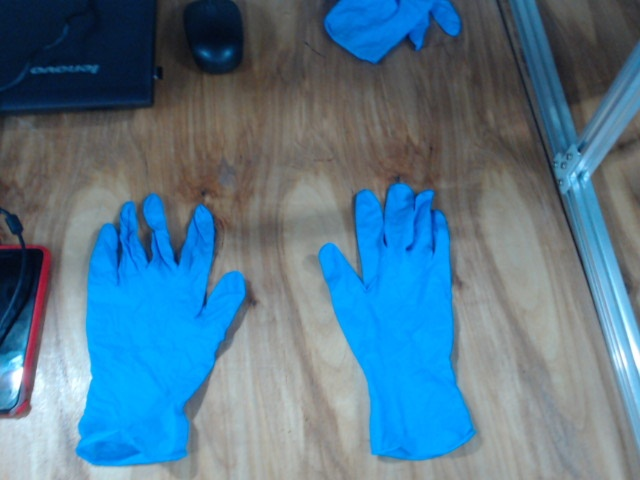medical_glove: (75, 193, 246, 464), (318, 183, 478, 460)
